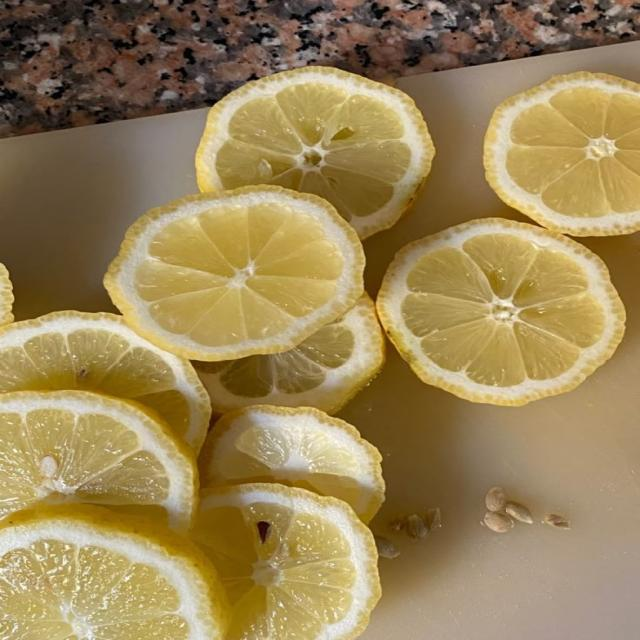lemon: (378, 219, 625, 405), (105, 186, 364, 360), (196, 67, 434, 238), (0, 505, 228, 639), (0, 312, 210, 450), (194, 484, 379, 639), (0, 391, 197, 530), (485, 72, 639, 236), (194, 295, 385, 413), (199, 406, 385, 522), (0, 263, 13, 326)
